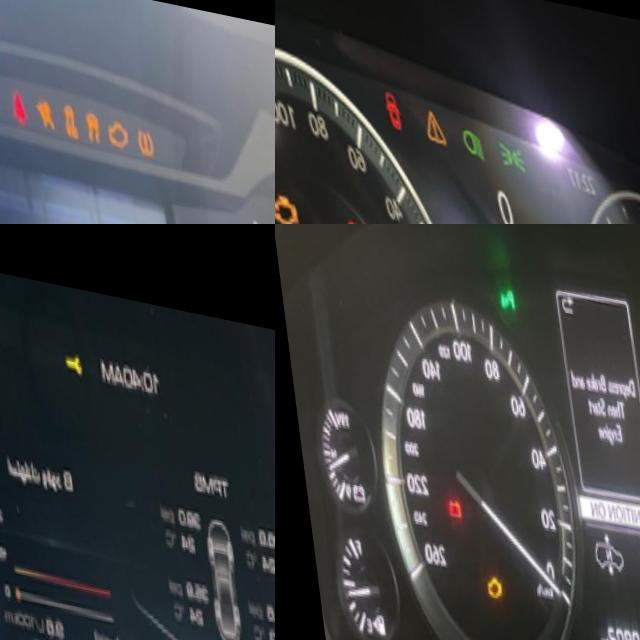Central Warning lamp: (410, 88, 449, 141)
Doors: (370, 69, 410, 130)
Low beam: (452, 104, 487, 152)
Seat Belt: (4, 73, 29, 115)
